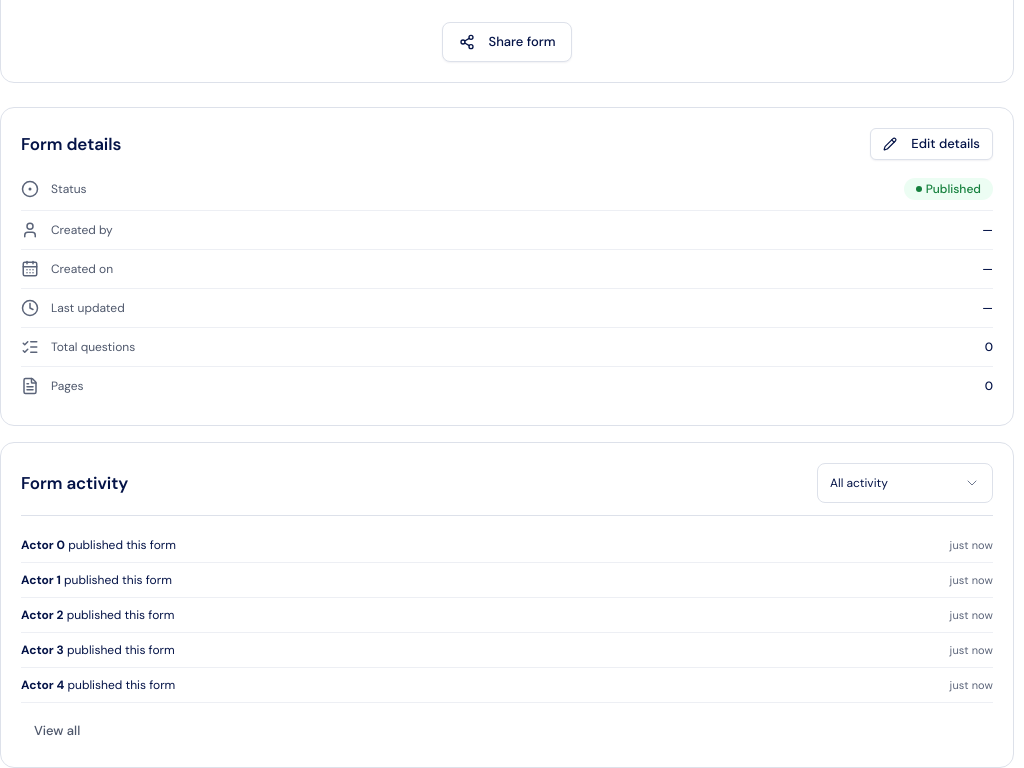
Test: FormOverviewPage › lists events and offers View all when more than 5 exist
The width and height of the screenshot is (1024, 768).
Check: the text "Actor 0" is shown, box [21,537,65,553]
Check: the text "Actor 5" is not shown
Step 1. Click the button "View all" → coordinates (57, 731), box [21,715,93,747]
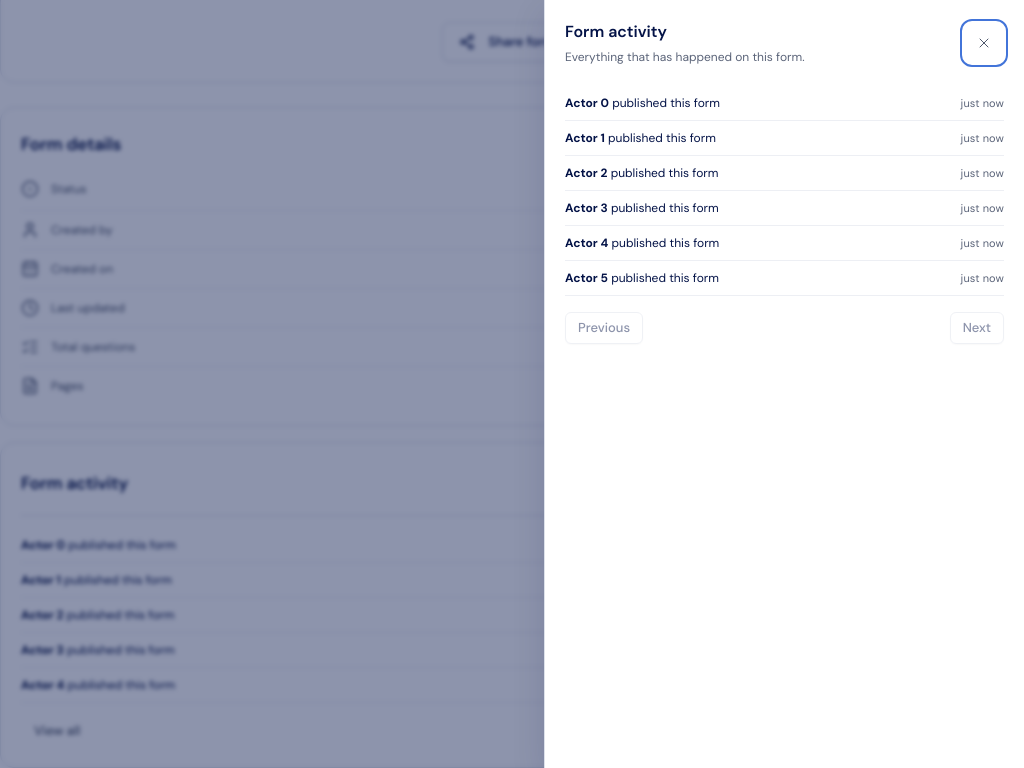
Check: the dialog "Form activity" is shown, box [544,0,1023,767]
